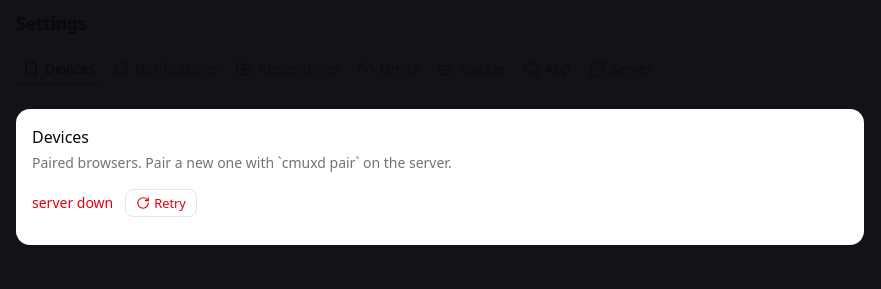
Settings devices › retries a failed device load
Expected: the text "server down" is shown, 32,193 -> 113,213
Click the button "Retry".
click(161, 203)  # box 125,189 -> 197,217
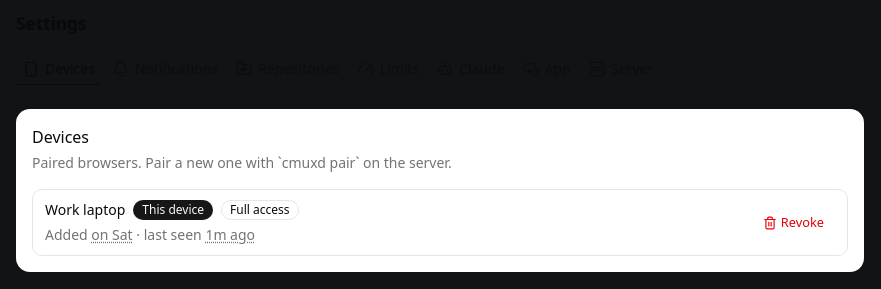
Now the text "This device" is shown, box 133,200 -> 213,220
Now the text "server down" is gone
